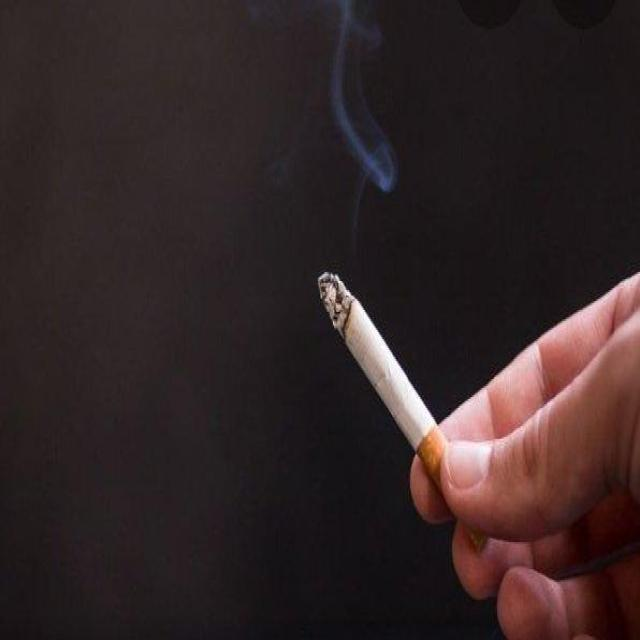rokok: (320, 270, 444, 482)
